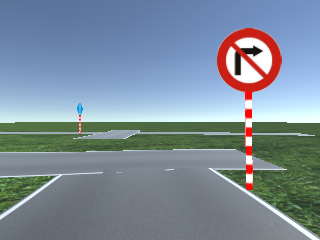-5: (1, 190, 320, 239)
NoRight: (216, 27, 282, 93)
